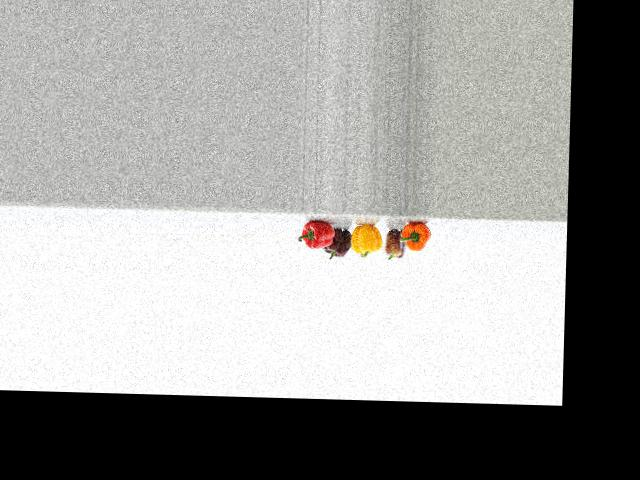bell_pepper: (399, 218, 432, 261)
